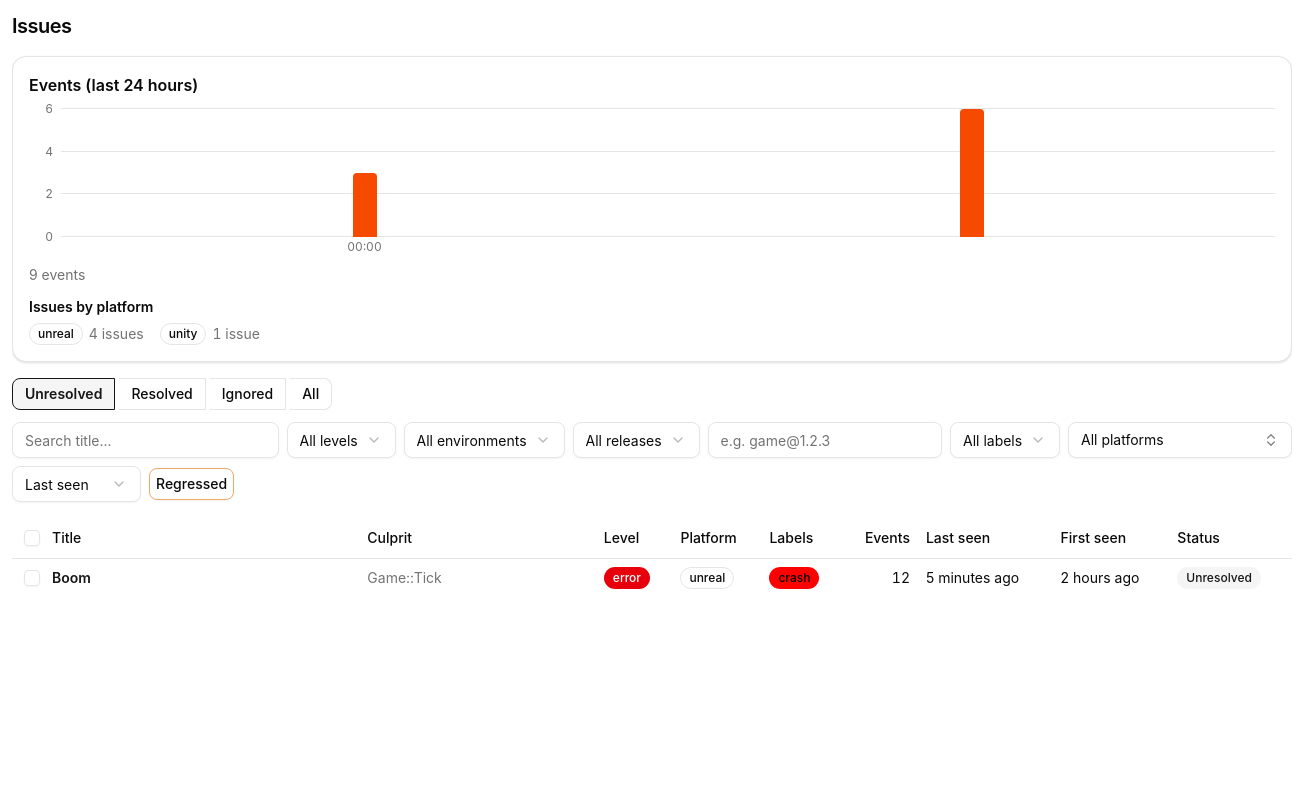
Test: IssuesPage › clears the selection when the filters change
Expected: the link "Boom" is shown, [52,568,91,586]
Click the checkbox named "Select issue 1". click: (32, 578)
box: [24,570,40,586]
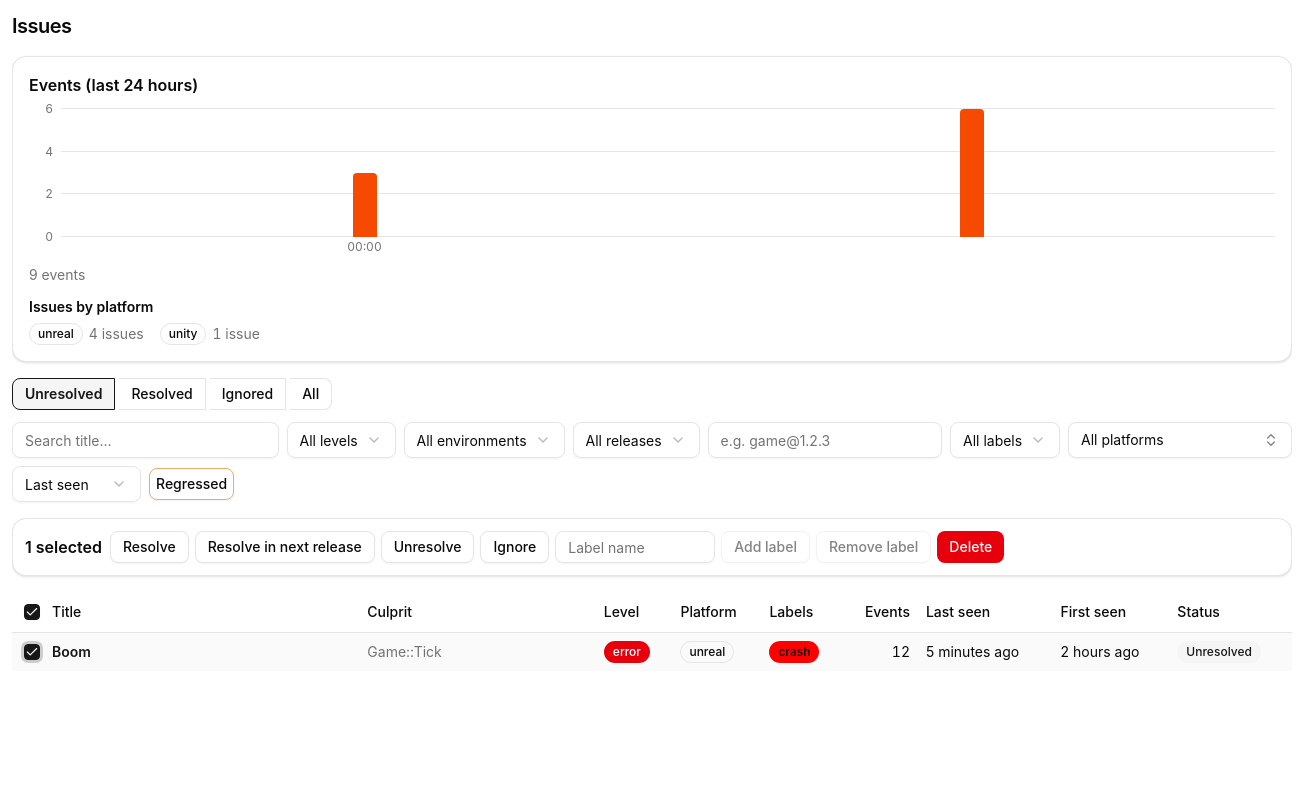
Now the text "1 selected" is shown, box [25,535,102,559]
Click the button "Ignored". click: (248, 394)
box: [210,378,286,410]
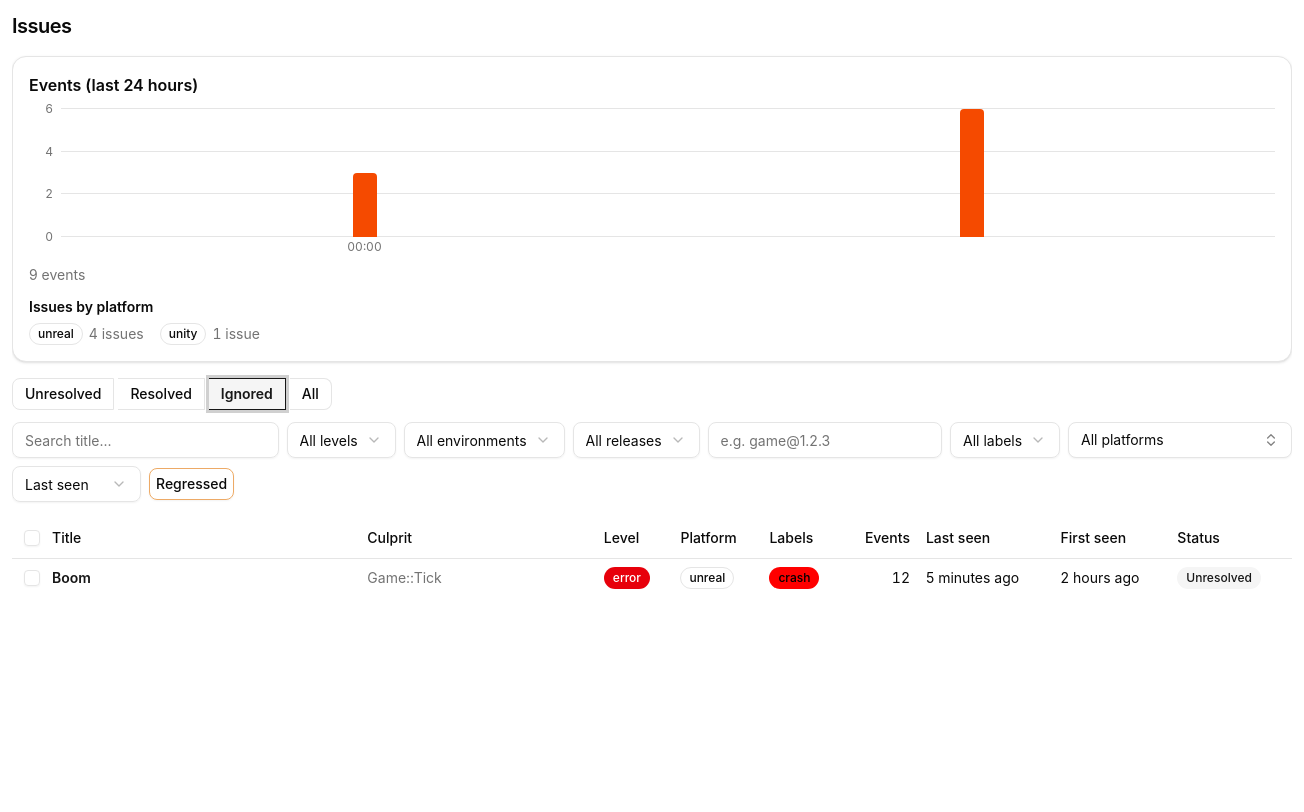
Now the text "1 selected" is gone
Now the checkbox named "Select issue 1" is not checked, box [24,570,40,586]
